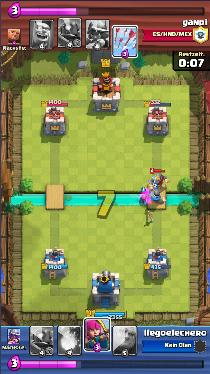ally_archer: (138, 195, 147, 205)
ally_knight: (147, 190, 165, 205)
enemy_knight: (148, 173, 169, 189)
